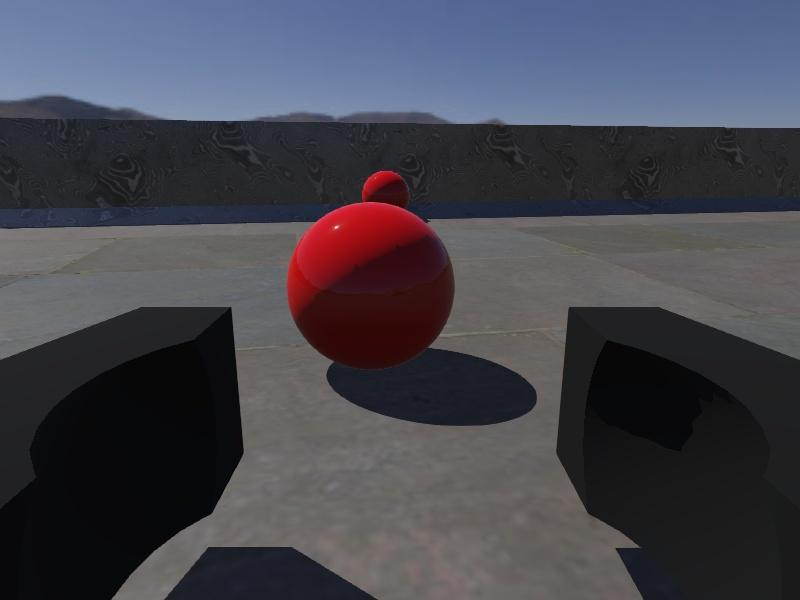red ball: (285, 201, 456, 373)
